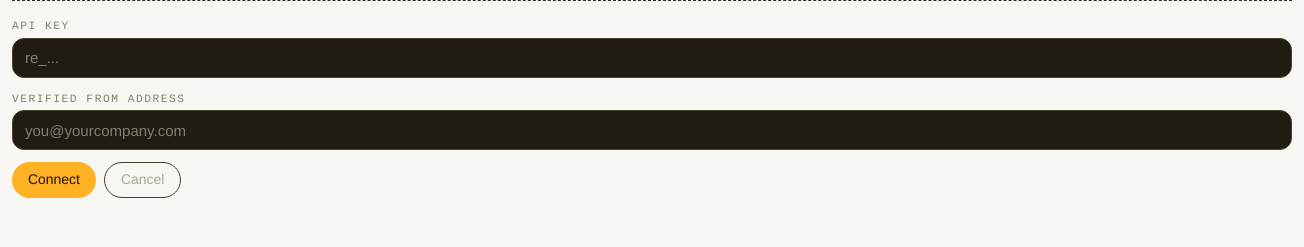
it: ConnectionsPage safety boundaries › never submits a credential with an invalid Resend sender target
This screenshot has width=1304, height=247.
Type "not-an-email" into the field labelled "Verified from address" at (652,130), box [12,110,1292,150]
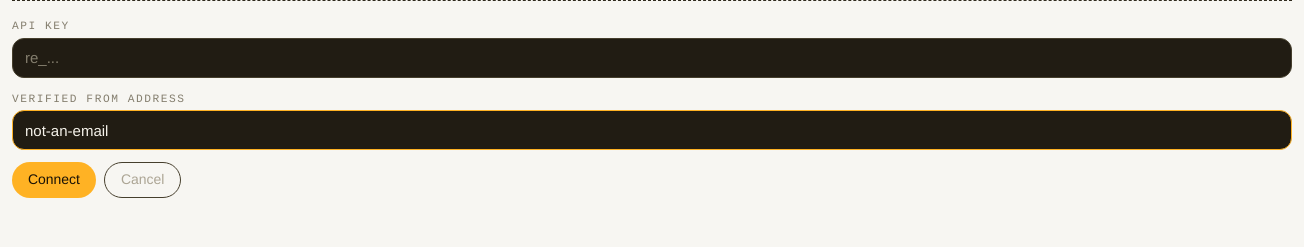
Type "re_must_not_send" into the password field labelled "API key" at (652,58), box [12,38,1292,78]
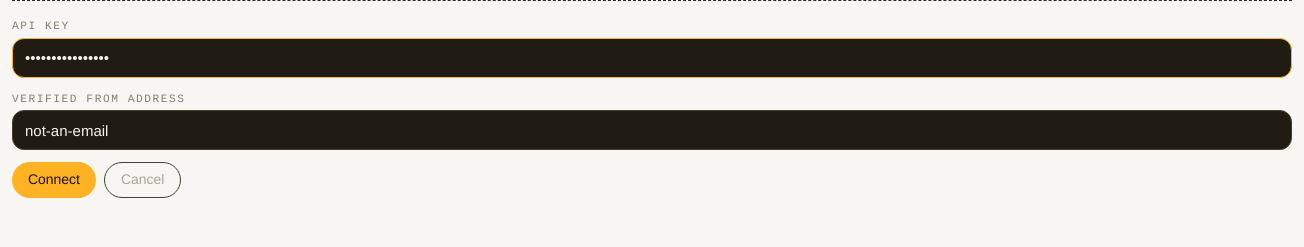
Submit the form
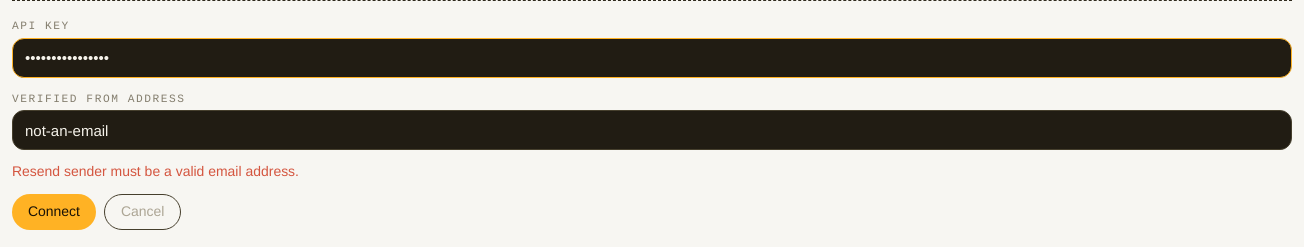
expect the message reads "Resend sender must be a valid email address.": met, box [12,163,299,179]
